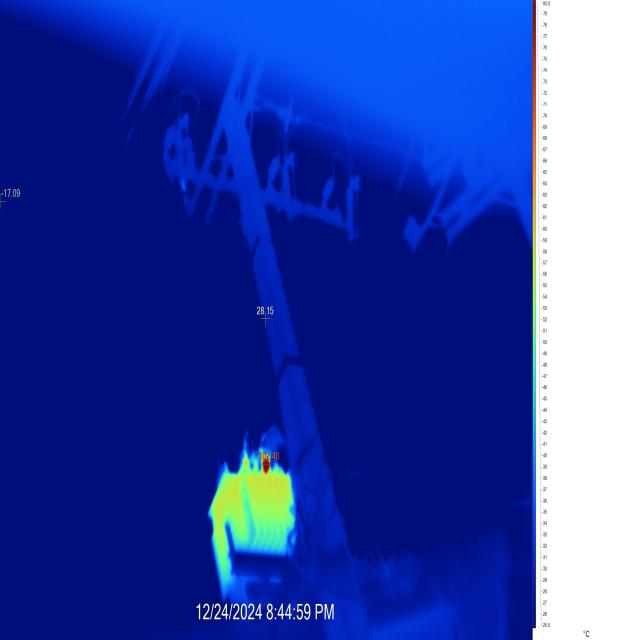Transformer: (149, 33, 376, 633)
